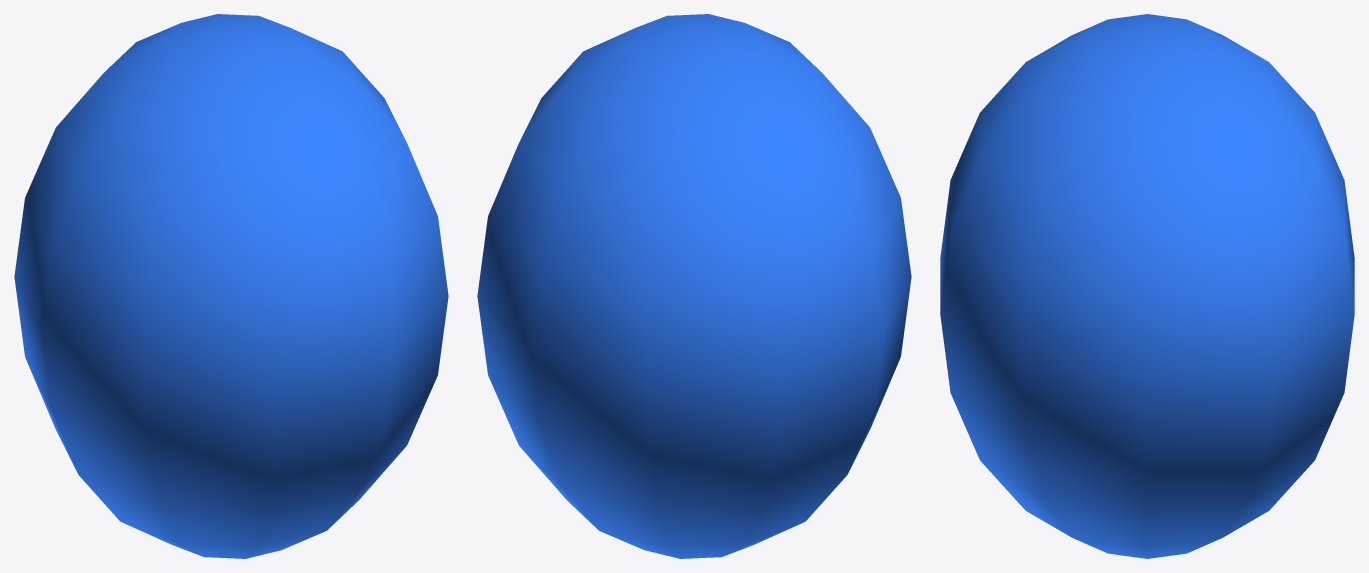
Rendered from orvalume_stage2.obj.
3 renders of one model, left to right at view 1: azimuth 30°, elevation 25°; view 2: azimuth 150°, elevation 25°; view 3: azimuth 270°, elevation 25°, orthographic.
Size of the model in its own units: 2 by 2.6 by 1.9.
